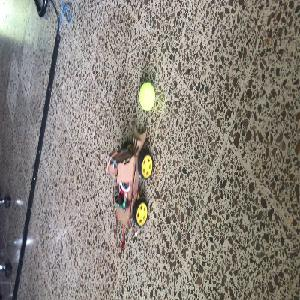Ball: (139, 82, 155, 110)
Robot: (106, 125, 153, 229)
